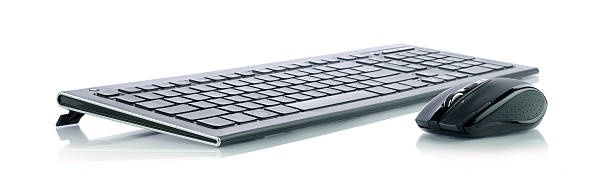keyboard: (56, 46, 546, 140)
mouse: (414, 74, 545, 139)
